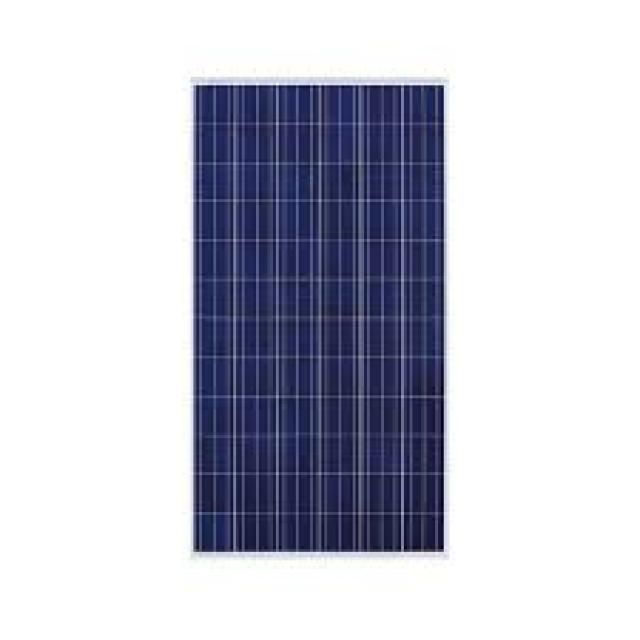clean-solar-panel: (198, 87, 443, 548)
